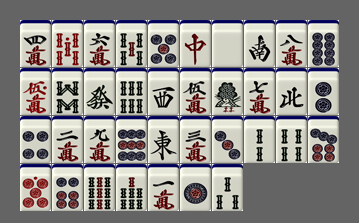0m: (20, 68, 51, 115)
0p: (20, 164, 51, 211)
0s: (52, 20, 83, 67)
1m: (148, 164, 179, 211)
1p: (180, 164, 211, 211)
1s: (212, 68, 243, 115)
1z: (148, 116, 179, 163)
2m: (52, 116, 83, 163)
2p: (308, 68, 339, 115)
2s: (244, 116, 275, 163)
2z: (244, 20, 275, 67)
3m: (180, 116, 211, 163)
3p: (212, 116, 243, 163)
3s: (212, 164, 243, 211)
3z: (148, 68, 179, 115)
4m: (20, 20, 51, 67)
4p: (20, 116, 51, 163)
4s: (276, 116, 307, 163)
4z: (276, 68, 307, 115)
5m: (180, 68, 211, 115)
5p: (148, 20, 179, 67)
5s: (116, 20, 147, 67)
5z: (212, 20, 243, 67)
6m: (84, 20, 115, 67)
6p: (52, 164, 83, 211)
6s: (116, 68, 147, 115)
6z: (84, 68, 115, 115)
7m: (244, 68, 275, 115)
7p: (308, 116, 339, 163)
7s: (116, 164, 147, 211)
7z: (180, 20, 211, 67)
8m: (276, 20, 307, 67)
8p: (308, 20, 339, 67)
8s: (52, 68, 83, 115)
9m: (84, 116, 115, 163)
9p: (116, 116, 147, 163)
9s: (84, 164, 115, 211)
